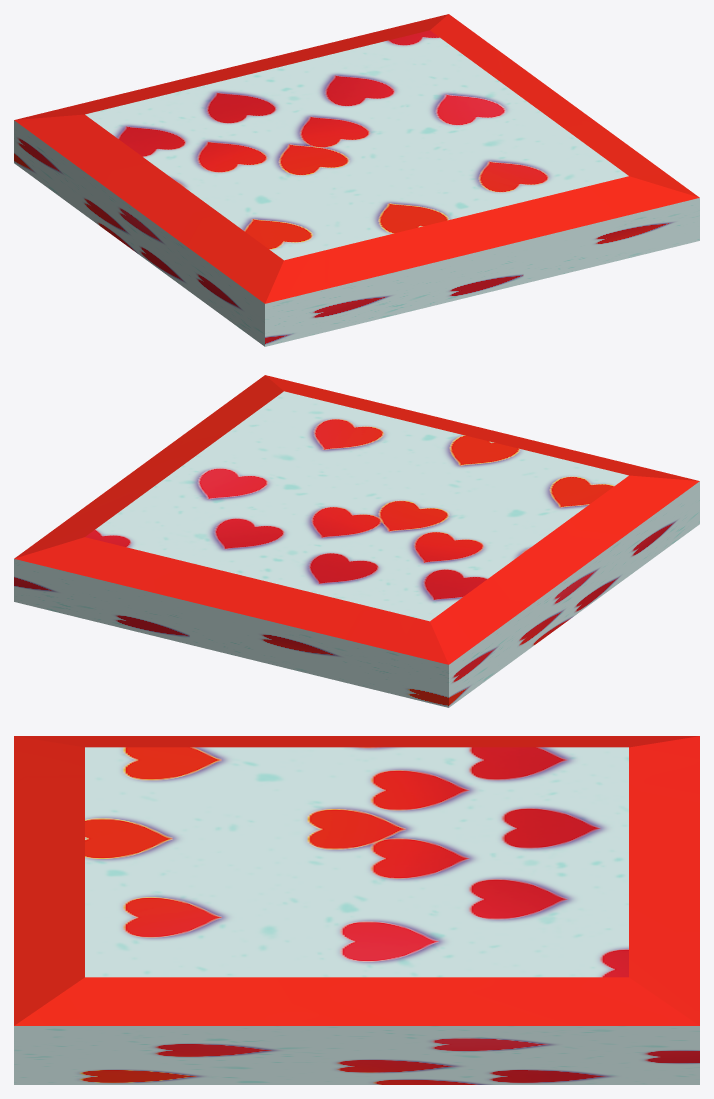
Rendered from черви куб.fbx.
The picture shows the model from 3 angles, top to bottom: view 1: azimuth 30°, elevation 25°; view 2: azimuth 150°, elevation 25°; view 3: azimuth 270°, elevation 25°; orthographic projection. The views are drawn at different scales.
Visible parts, largest first — view 1: Cube.001; view 2: Cube.001; view 3: Cube.001.
Part boxes in pixels (box(x1,y1,x2,y2)): Cube.001: box(14, 14, 699, 346); Cube.001: box(14, 375, 699, 707); Cube.001: box(14, 736, 699, 1084).
Size of the model in its own units: 529 by 65.88 by 529.
